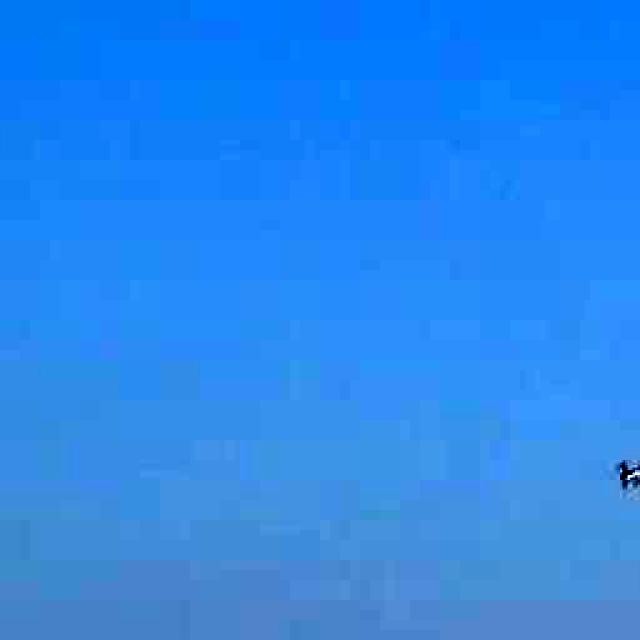bird: (589, 416, 640, 514)
